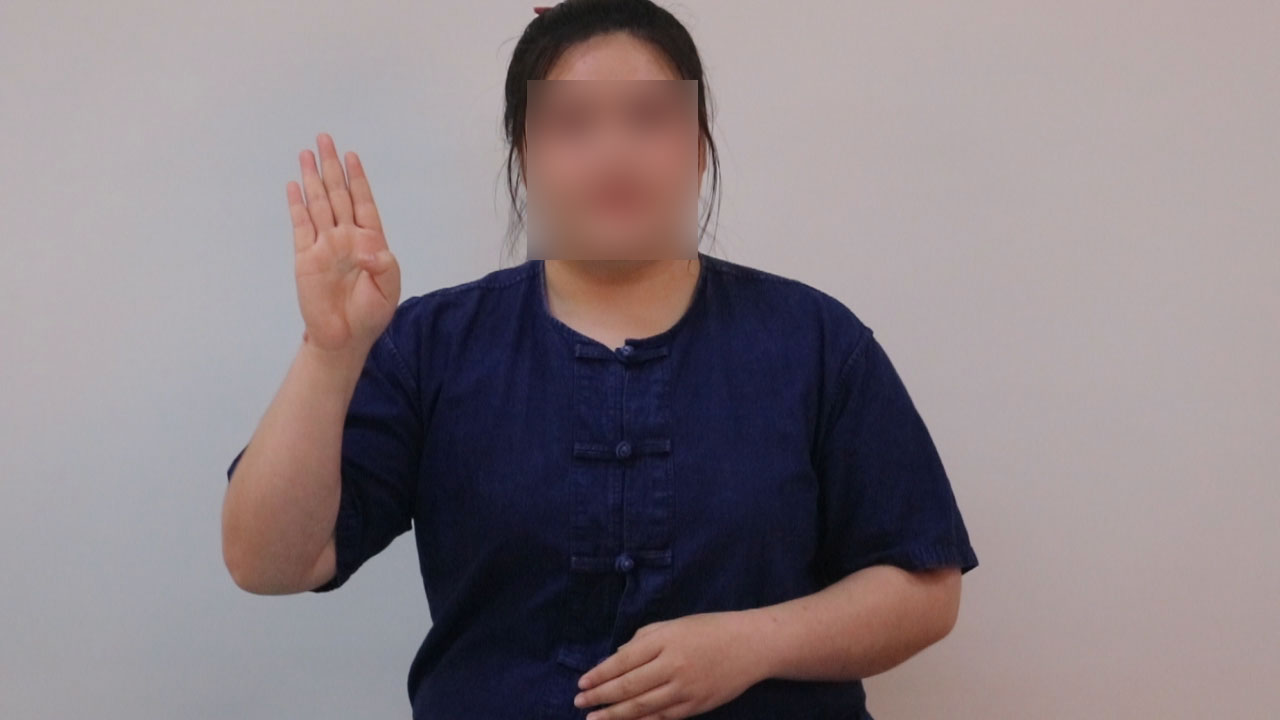bor: (270, 123, 416, 381)
